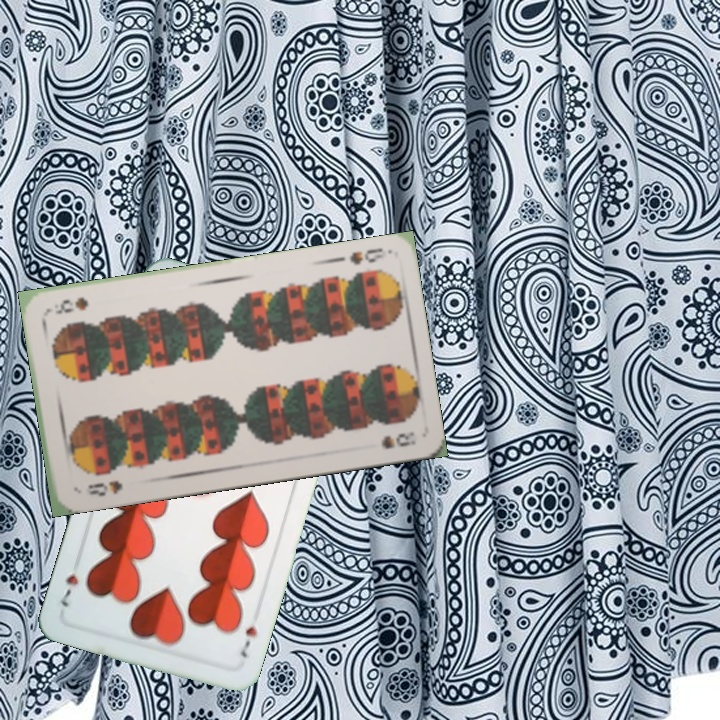H7: (235, 622, 260, 660)
S8: (345, 243, 390, 268), (84, 476, 125, 499)
